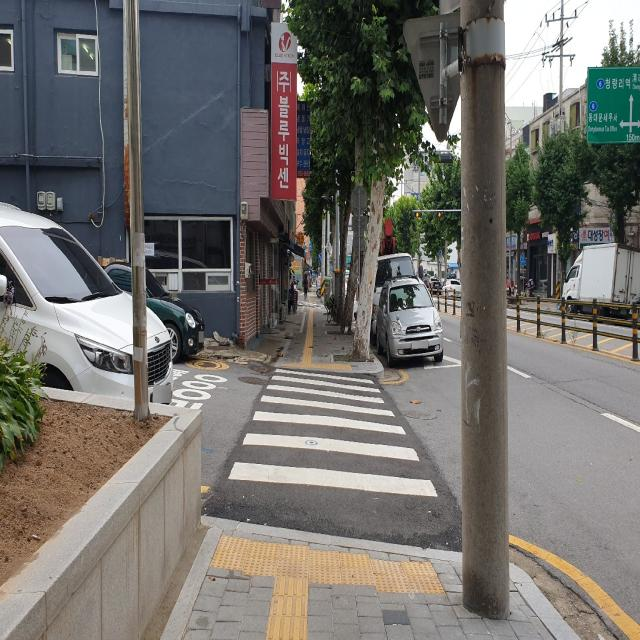횡단보도: (228, 368, 440, 499)
